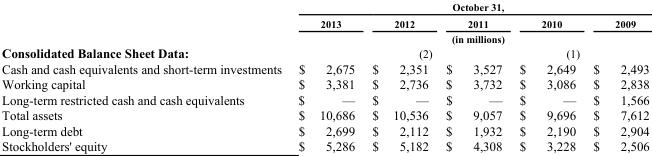table: (1, 0, 648, 152)
table column: (1, 0, 289, 152), (362, 0, 438, 152), (510, 0, 585, 152), (289, 0, 362, 152), (438, 0, 510, 152), (585, 0, 648, 152)
table column header: (1, 0, 648, 44)
table row: (1, 14, 648, 30), (1, 44, 648, 60), (1, 75, 648, 91), (1, 106, 648, 122), (1, 60, 648, 75), (1, 91, 648, 106), (1, 122, 648, 137), (1, 137, 648, 152), (1, 0, 648, 14), (1, 30, 648, 44)
table spanning cell: (289, 0, 648, 14), (289, 30, 648, 44)
